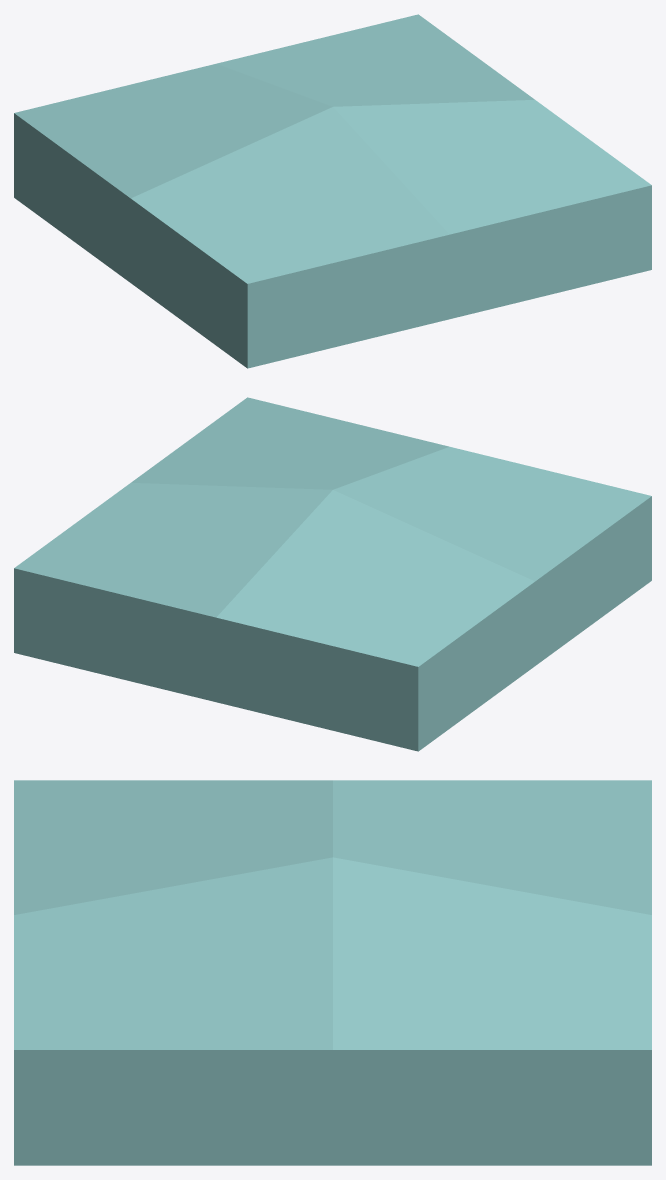
File: IcePlate.fbx
The picture shows the model from 3 angles, top to bottom: view 1: azimuth 30°, elevation 25°; view 2: azimuth 150°, elevation 25°; view 3: azimuth 270°, elevation 25°; orthographic projection. The views are drawn at different scales.
Parts seen in each view (by area): view 1: Cube; view 2: Cube; view 3: Cube.
Part boxes in pixels (left/top/right/bottom): Cube: left=14, top=14, right=651, bottom=368; Cube: left=14, top=397, right=651, bottom=751; Cube: left=14, top=780, right=651, bottom=1165.
Size of the model in its own units: 500 by 150 by 500.
